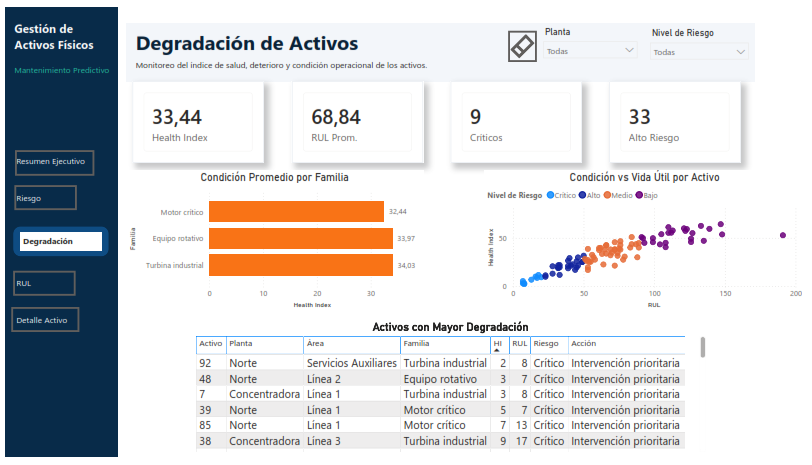

The dashboard page shown, as its layout file describes it:
{"tool":"powerbi","page":{"name":"Degradación","canvas":[1280,720],"ordinal":2},"visuals":[{"type":"shape","box":[0,0,180,720],"z":0},{"type":"textbox","box":[12.9,232.7,129.6,29.3],"z":0,"group":"g2"},{"type":"textbox","box":[12.9,291.1,130,30],"z":0,"group":"g3"},{"type":"shape","box":[12.9,350.8,152.9,47.7],"z":0,"group":"g1"},{"type":"textbox","box":[12.9,427.6,129.6,29.3],"z":0,"group":"g4"},{"type":"textbox","box":[12.9,486.7,132.1,29.3],"z":0,"group":"g5"},{"type":"textbox","box":[9.8,17.1,170,61.1],"z":1000},{"type":"textbox","box":[24.2,360.3,129.6,29.3],"z":1000,"group":"g1"},{"type":"textbox","box":[9.8,86.8,170,40.4],"z":2000},{"type":"group","id":"g1","title":"Grupo 1","box":[12.9,350.8,152.9,47.1],"z":3000},{"type":"group","id":"g2","title":"Grupo 1","box":[12.9,232.7,130,28.8],"z":4000},{"type":"group","id":"g3","title":"Grupo 1","box":[12.9,291.1,130,30],"z":5000},{"type":"group","id":"g4","title":"Grupo 1","box":[12.9,427.6,129.6,29.3],"z":6000},{"type":"group","id":"g5","title":"Grupo 1","box":[12.9,486.7,132.1,29.3],"z":7000},{"type":"shape","box":[194.3,27.1,1004.3,91.4],"z":8000},{"type":"textbox","box":[204.3,28.6,391.4,58.6],"z":9000},{"type":"textbox","box":[204.2,78.3,492.8,40.4],"z":10000},{"type":"slicer","fields":{"Values":["dim_engine.site"]},"box":[851,27.3,171.4,59.2],"z":11000},{"type":"slicer","fields":{"Values":["dim_engine.current_risk_level"]},"box":[1022.4,28.8,177.5,59.2],"z":12000},{"type":"cardVisual","fields":{"Data":["Medidas.Health Index Promedio"]},"box":[204.3,118.6,210,130],"z":13000},{"type":"cardVisual","fields":{"Data":["Medidas.Activos Críticos"]},"box":[712.9,118.6,210,130],"z":14000},{"type":"cardVisual","fields":{"Data":["Medidas.RUL Promedio"]},"box":[458.6,118.6,210,130],"z":15000},{"type":"cardVisual","fields":{"Data":["Medidas.Activos Alto Riesgo"]},"box":[967.1,118.6,210,130],"z":16000},{"type":"clusteredBarChart","title":"Condición Promedio por Familia","fields":{"Category":["dim_engine.asset_family"],"Y":["Medidas.Health Index Promedio"]},"box":[194.4,261.7,474.5,225],"z":17000},{"type":"scatterChart","title":"Condición vs Vida Útil por Activo","fields":{"X":["Medidas.RUL Actual"],"Y":["Medidas.Health Index Actual"],"Category":["dim_engine.engine_id"],"Series":["dim_engine.current_risk_level"]},"box":[766.7,261.7,513.6,225],"z":18000},{"type":"tableEx","title":"Activos con Mayor Degradación","fields":{"Values":["dim_engine.engine_id","dim_engine.Planta Visual","dim_engine.area","dim_engine.asset_family","dim_engine.current_health_index","dim_engine.current_rul","dim_engine.current_risk_level","dim_engine.current_recommended_action"]},"box":[299.6,501.4,826.6,215.2],"z":19000},{"type":"actionButton","box":[10.4,479.8,108.8,40.2],"z":20000},{"type":"actionButton","box":[13.4,421.7,99.8,40.2],"z":21000},{"type":"actionButton","box":[14.9,284.6,99.8,40.2],"z":22000},{"type":"actionButton","box":[16.4,229.5,126.7,40.2],"z":23000},{"type":"actionButton","box":[804.6,37.9,46.5,50.1],"z":24000}]}

Visuals, with their boxes on the page's 1280x720 design canvas (x1, y1, x2, y2). These are canvas units, not pixel positions in the 812x465 screenshot, which may show the page scaled, cropped or inside an application window:
shape: [left=0, top=0, right=180, bottom=720]
textbox: [left=13, top=233, right=142, bottom=262]
textbox: [left=13, top=291, right=143, bottom=321]
shape: [left=13, top=351, right=166, bottom=398]
textbox: [left=13, top=428, right=142, bottom=457]
textbox: [left=13, top=487, right=145, bottom=516]
textbox: [left=10, top=17, right=180, bottom=78]
textbox: [left=24, top=360, right=154, bottom=390]
textbox: [left=10, top=87, right=180, bottom=127]
"Grupo 1" group: [left=13, top=351, right=166, bottom=398]
"Grupo 1" group: [left=13, top=233, right=143, bottom=262]
"Grupo 1" group: [left=13, top=291, right=143, bottom=321]
"Grupo 1" group: [left=13, top=428, right=142, bottom=457]
"Grupo 1" group: [left=13, top=487, right=145, bottom=516]
shape: [left=194, top=27, right=1199, bottom=118]
textbox: [left=204, top=29, right=596, bottom=87]
textbox: [left=204, top=78, right=697, bottom=119]
slicer - dim_engine.site: [left=851, top=27, right=1022, bottom=86]
slicer - dim_engine.current_risk_level: [left=1022, top=29, right=1200, bottom=88]
cardVisual - Medidas.Health Index Promedio: [left=204, top=119, right=414, bottom=249]
cardVisual - Medidas.Activos Críticos: [left=713, top=119, right=923, bottom=249]
cardVisual - Medidas.RUL Promedio: [left=459, top=119, right=669, bottom=249]
cardVisual - Medidas.Activos Alto Riesgo: [left=967, top=119, right=1177, bottom=249]
"Condición Promedio por Familia" clusteredBarChart: [left=194, top=262, right=669, bottom=487]
"Condición vs Vida Útil por Activo" scatterChart: [left=767, top=262, right=1280, bottom=487]
"Activos con Mayor Degradación" tableEx: [left=300, top=501, right=1126, bottom=717]
actionButton: [left=10, top=480, right=119, bottom=520]
actionButton: [left=13, top=422, right=113, bottom=462]
actionButton: [left=15, top=285, right=115, bottom=325]
actionButton: [left=16, top=230, right=143, bottom=270]
actionButton: [left=805, top=38, right=851, bottom=88]
